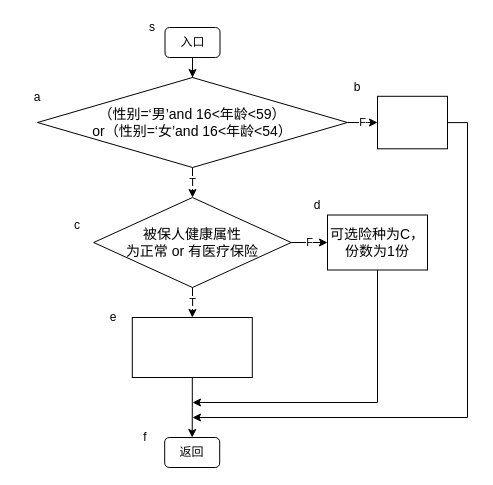
Image size: 493x485. Some labels were removed from this diagram. Each missing label, with the centre of its shape:
"可选择保险种类为 A 或 B1 或 B2 的险种，份数为 1 份" goes at point (191, 347).
"提示‘不能承保’" goes at point (412, 122).
